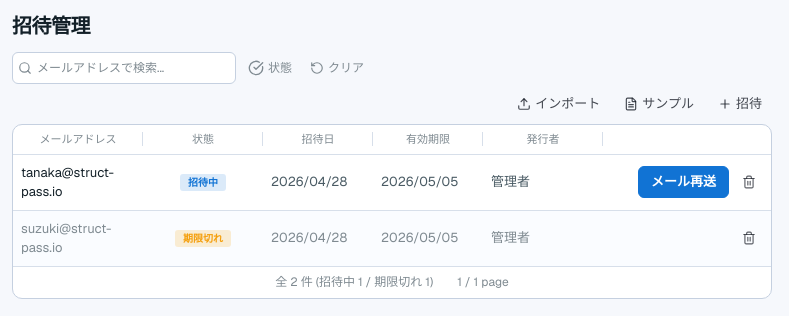
Test: InvitesScreen › メール検索で一致する行だけ残す
In the search field with placeholder "メールアドレスで検索...": [124, 68] box [12, 52, 236, 84], type "tanaka"
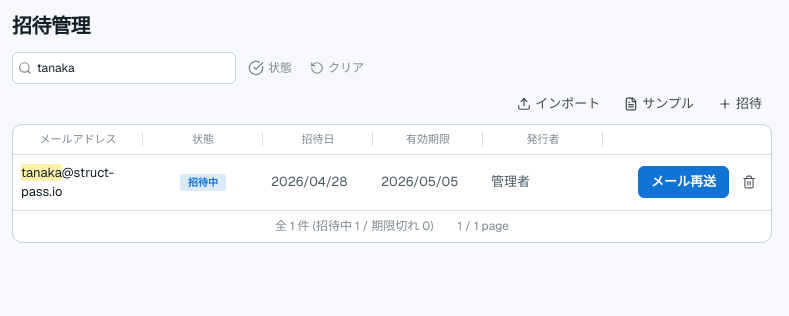
Now the text "suzuki@struct-pass.io" is gone
